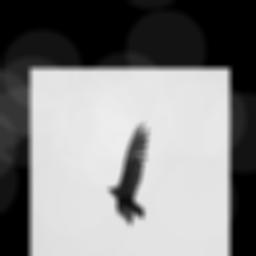Crow: (106, 120, 148, 224)
